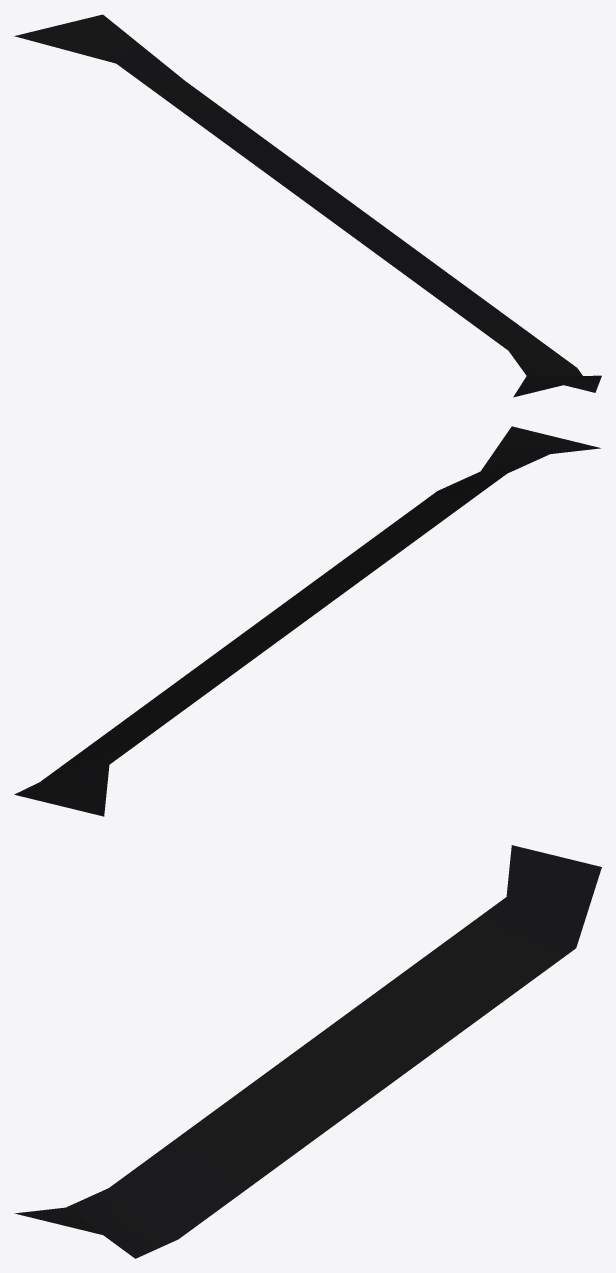
File: skirt_L_stock.glb
The picture shows the model from 3 angles, top to bottom: view 1: azimuth 30°, elevation 25°; view 2: azimuth 150°, elevation 25°; view 3: azimuth 330°, elevation 25°; orthographic projection.
Visible parts, largest first — view 1: skirt_L_stock; view 2: skirt_L_stock; view 3: skirt_L_stock.
Part boxes in pixels (<box>): skirt_L_stock: <box>14,14,601,397</box>; skirt_L_stock: <box>14,426,600,816</box>; skirt_L_stock: <box>14,845,601,1258</box>.
Bounding box in the file's own units: 0.29 × 0.08 × 2.12.
1 material, 1 textured.
